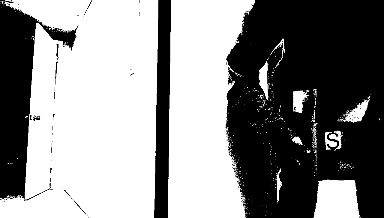S: (324, 132, 341, 149)
